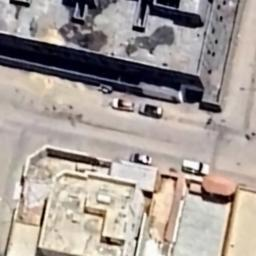sedan: (136, 102, 166, 120), (128, 150, 156, 167)
van: (177, 158, 214, 178), (109, 95, 138, 114)
